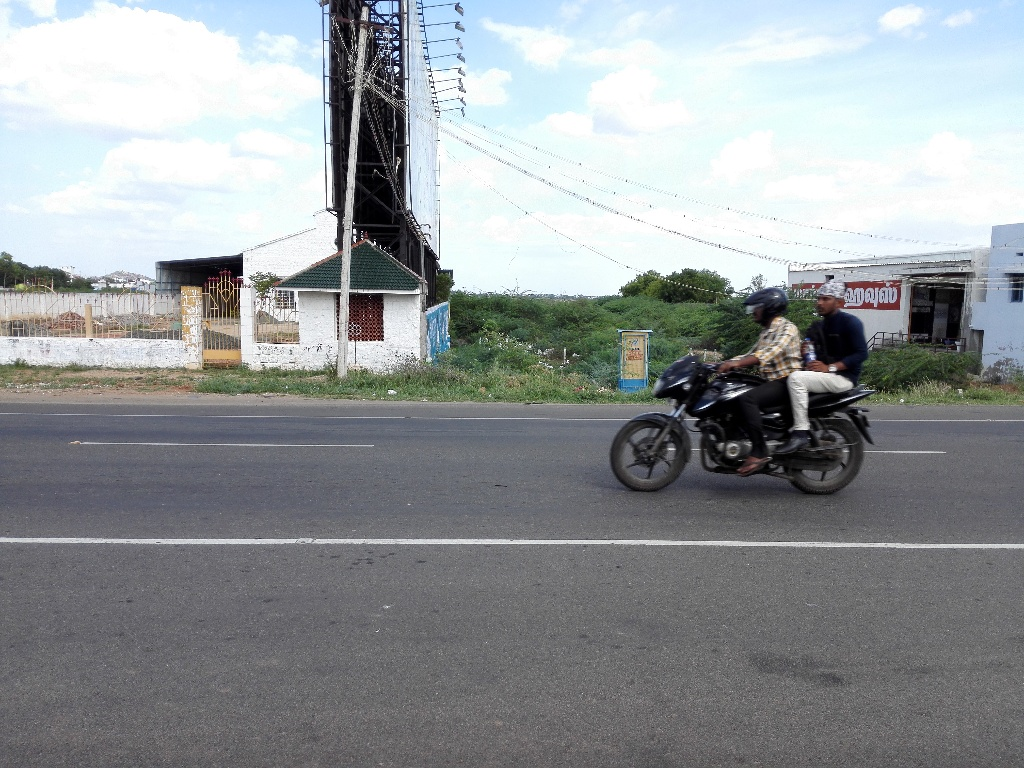biker: (596, 239, 896, 508)
helmet: (735, 278, 792, 336)
nohelmet: (805, 272, 858, 327)
